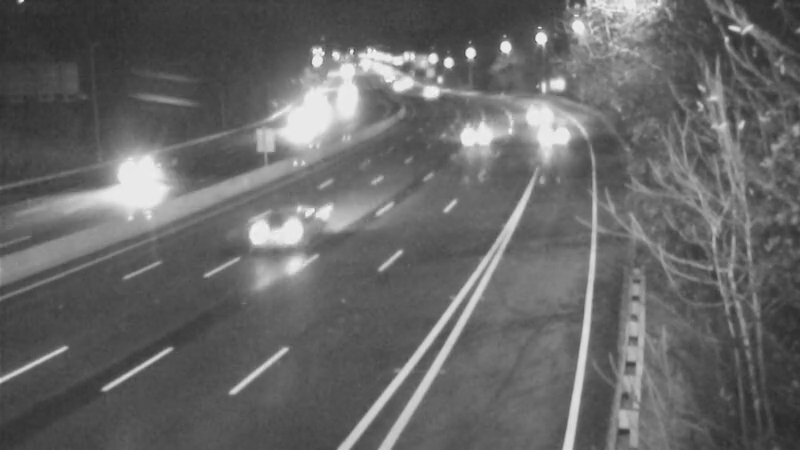vehicle: (250, 185, 330, 265), (94, 129, 174, 209), (403, 64, 453, 114), (508, 89, 558, 139), (524, 108, 574, 158), (451, 107, 501, 157), (276, 101, 326, 151), (294, 84, 344, 134), (319, 74, 369, 124)
